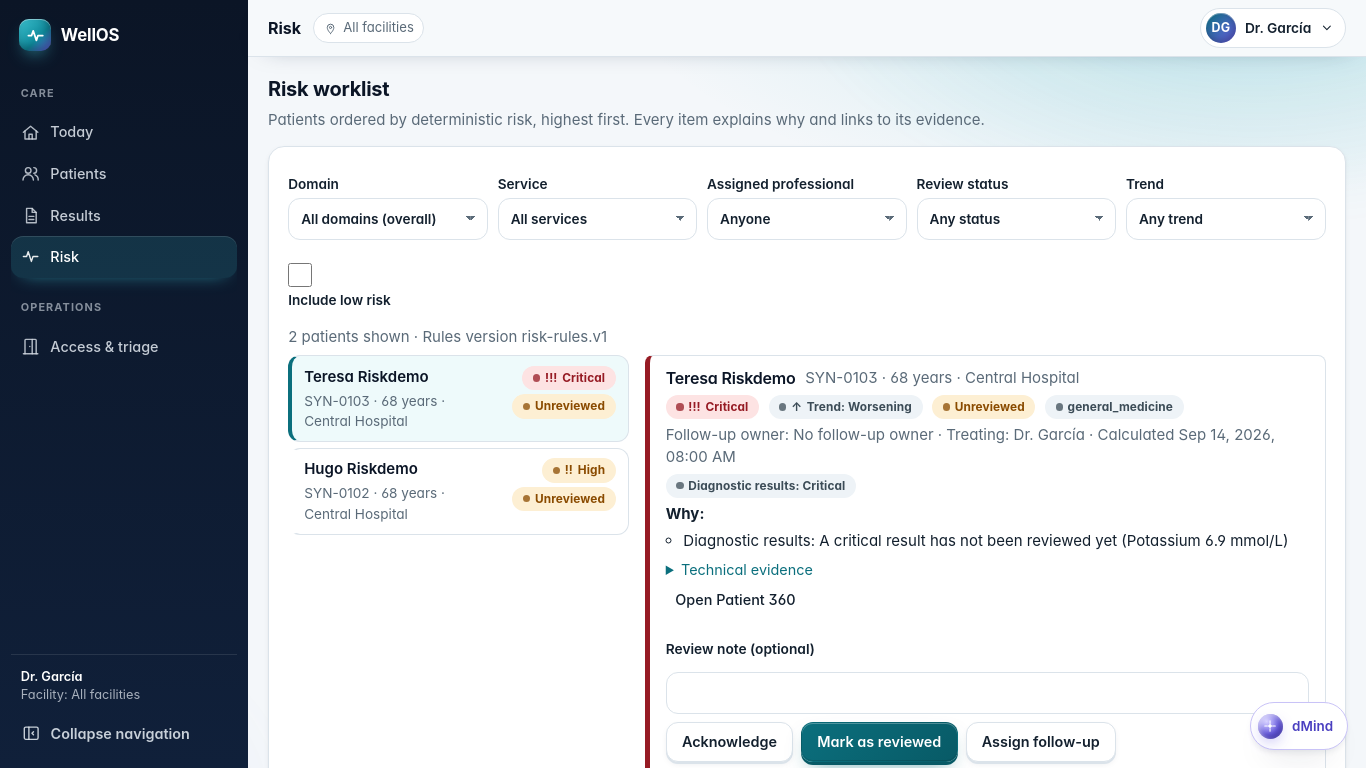
risk worklist › shows the loading state and then items in the server's order
This screenshot has width=1366, height=768.
Later steps or results of the test are not shown.
Check: the button with test id "worklist-row" shows "Teresa Riskdemo", box [288,355,629,442]
Check: the list item with class "risk-item" shows "Teresa Riskdemo", box [666,368,796,388]
Click the button with test id "worklist-row" that starts with "Hugo Riskdemo".
click(361, 469)  # box [288,448,629,535]
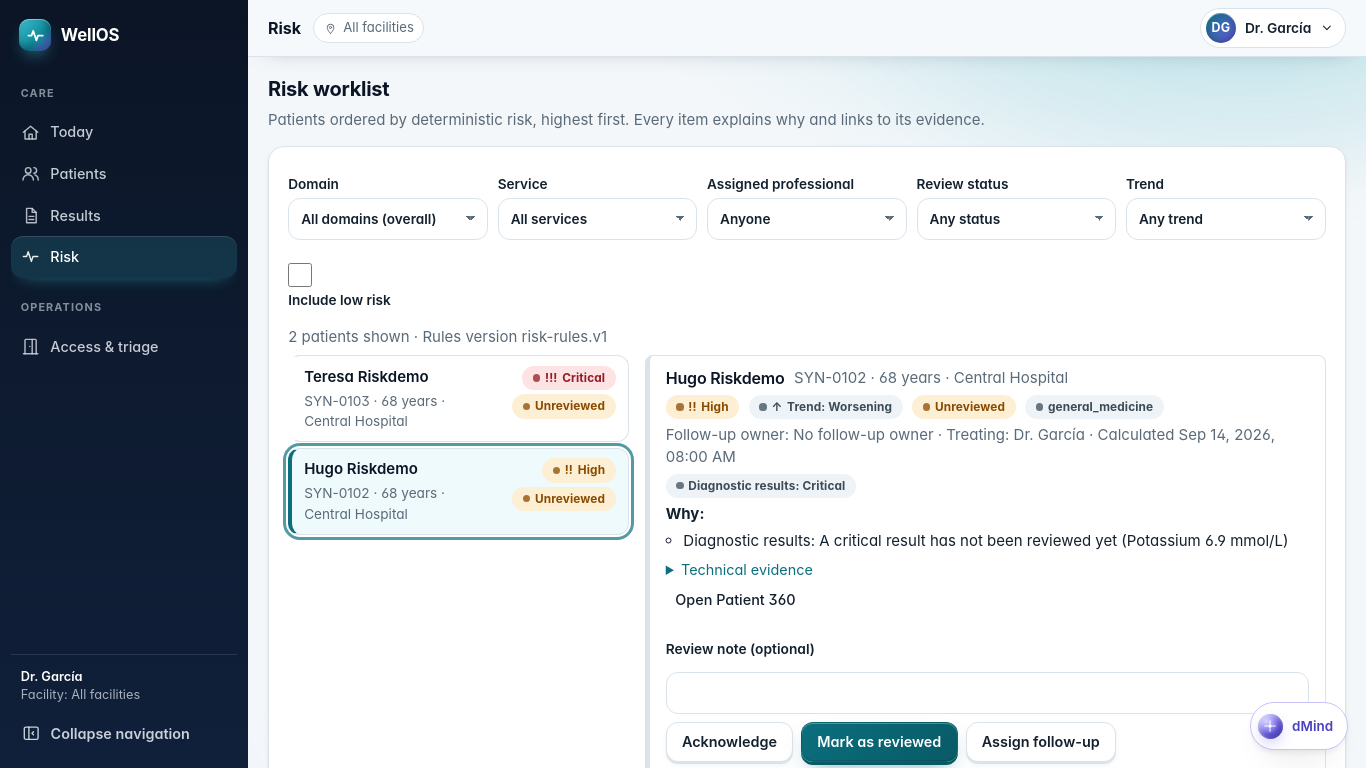
Check: the text "2 patients shown · Rules version risk-rules.v1" is shown, box [288,327,607,346]
Check: the list item with class "risk-item" shows "Hugo Riskdemo", box [666,368,784,388]
